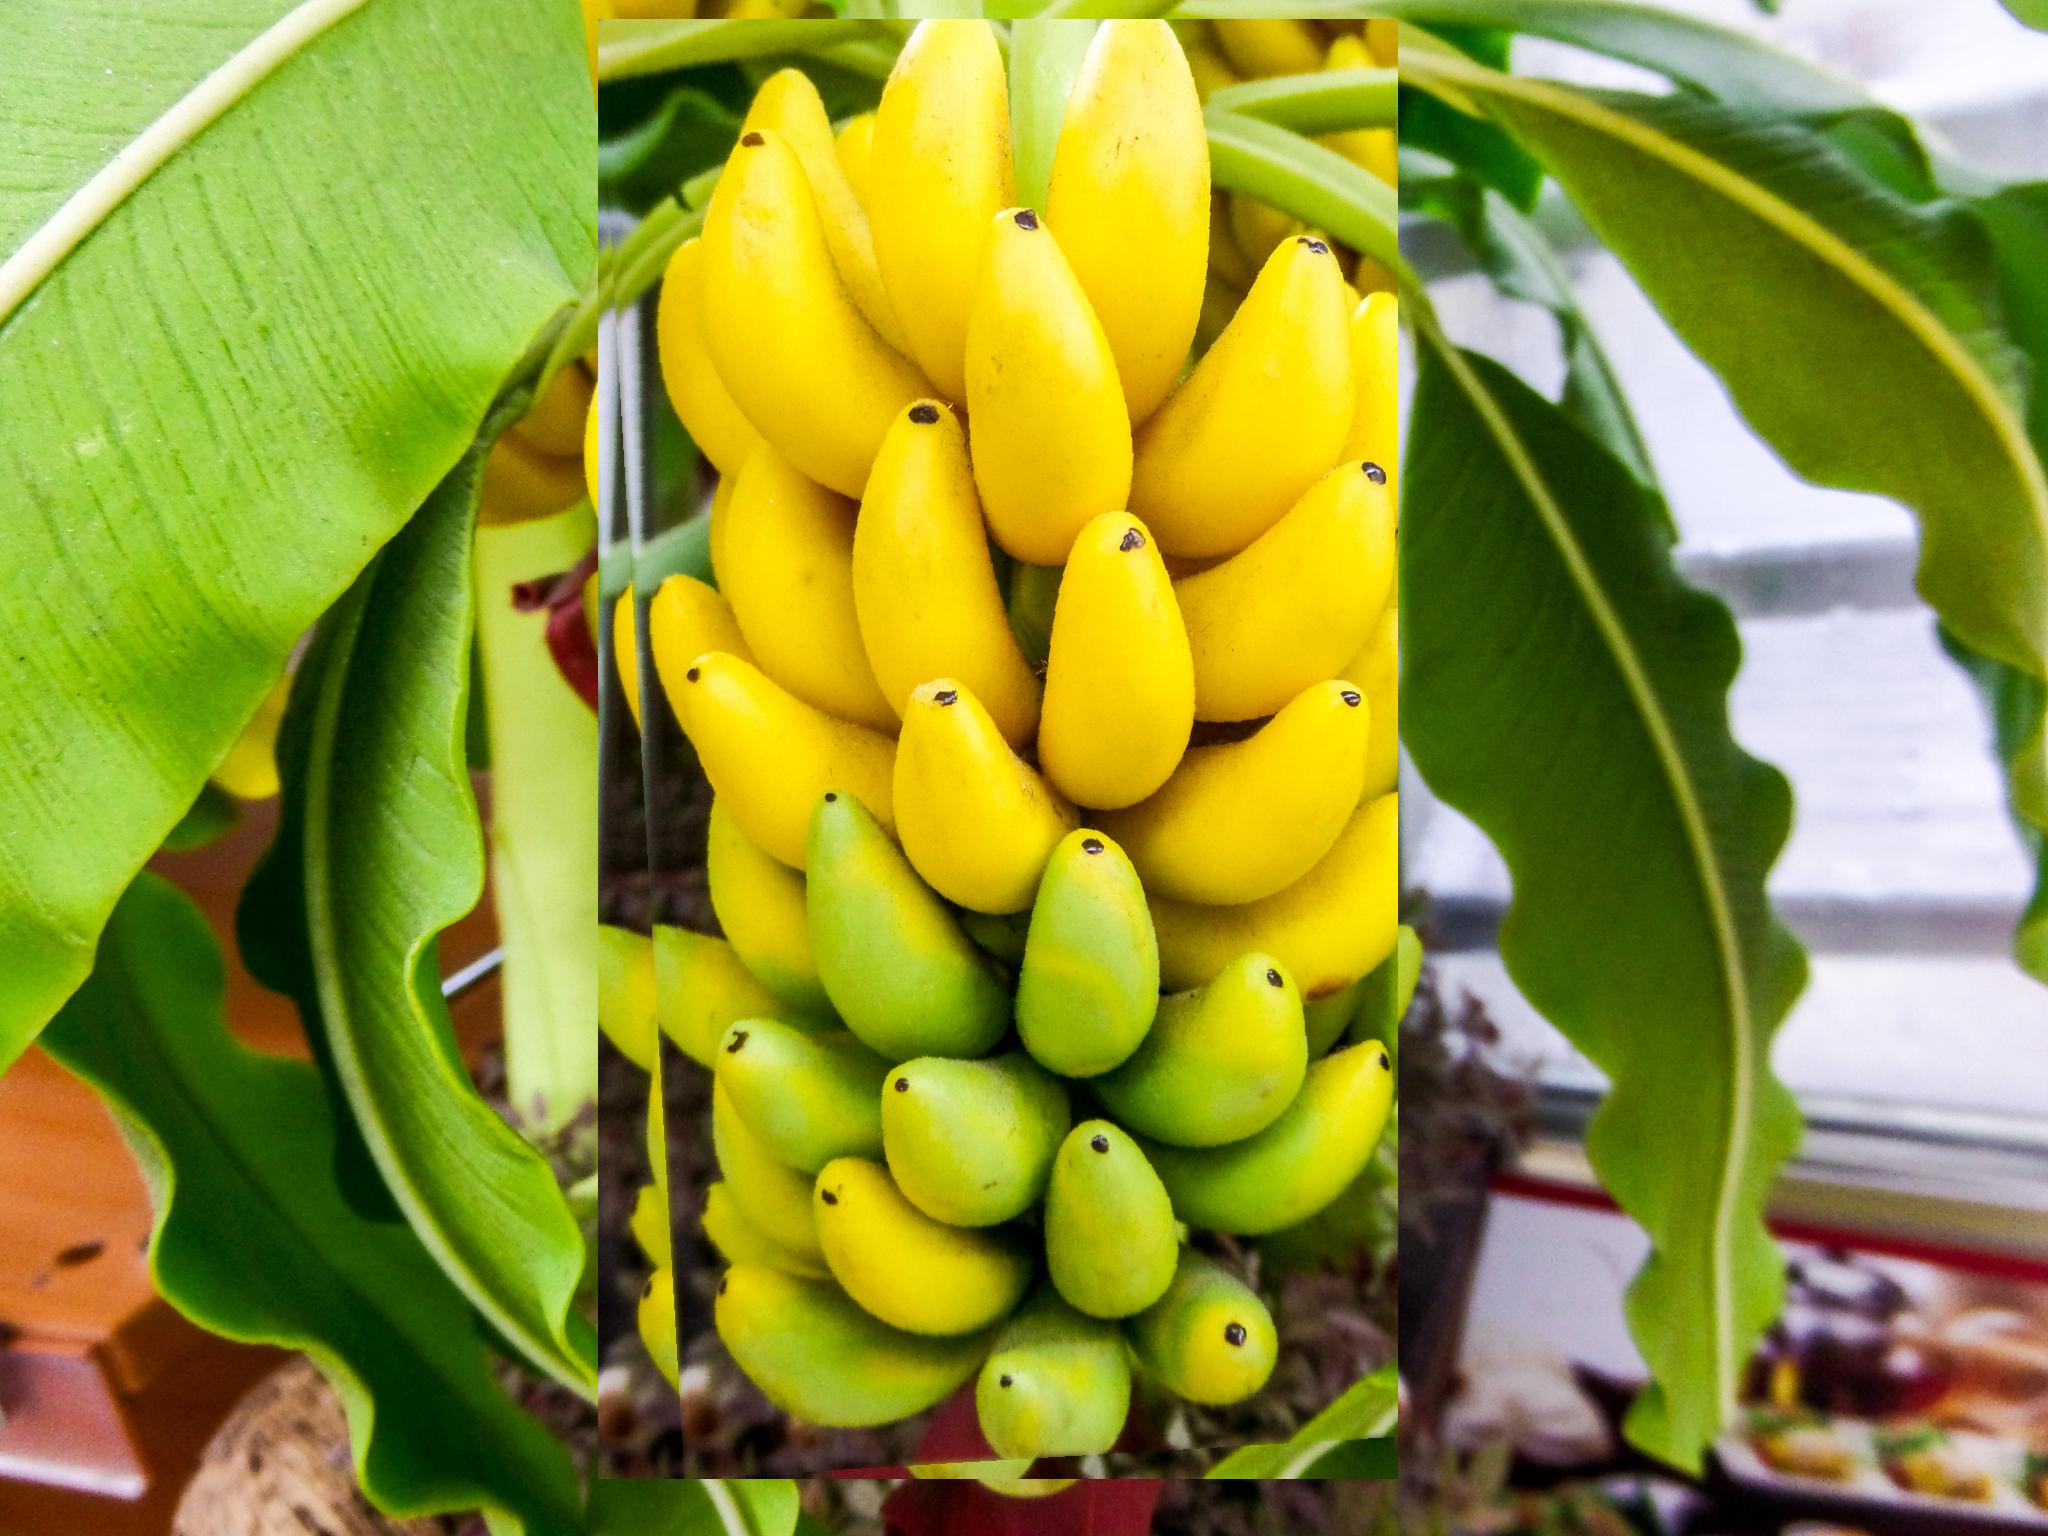Banana Fresh: (598, 19, 1398, 1480)
